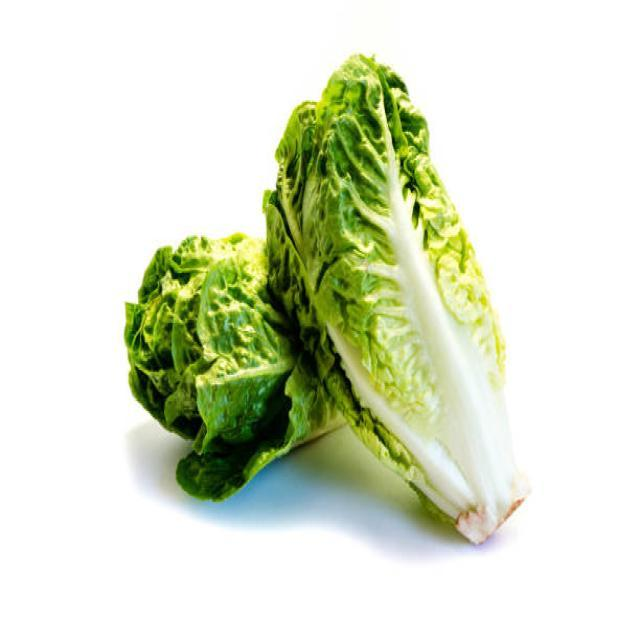Lettuce-Ready-to-Harvest: (265, 56, 528, 542), (125, 234, 334, 499)
